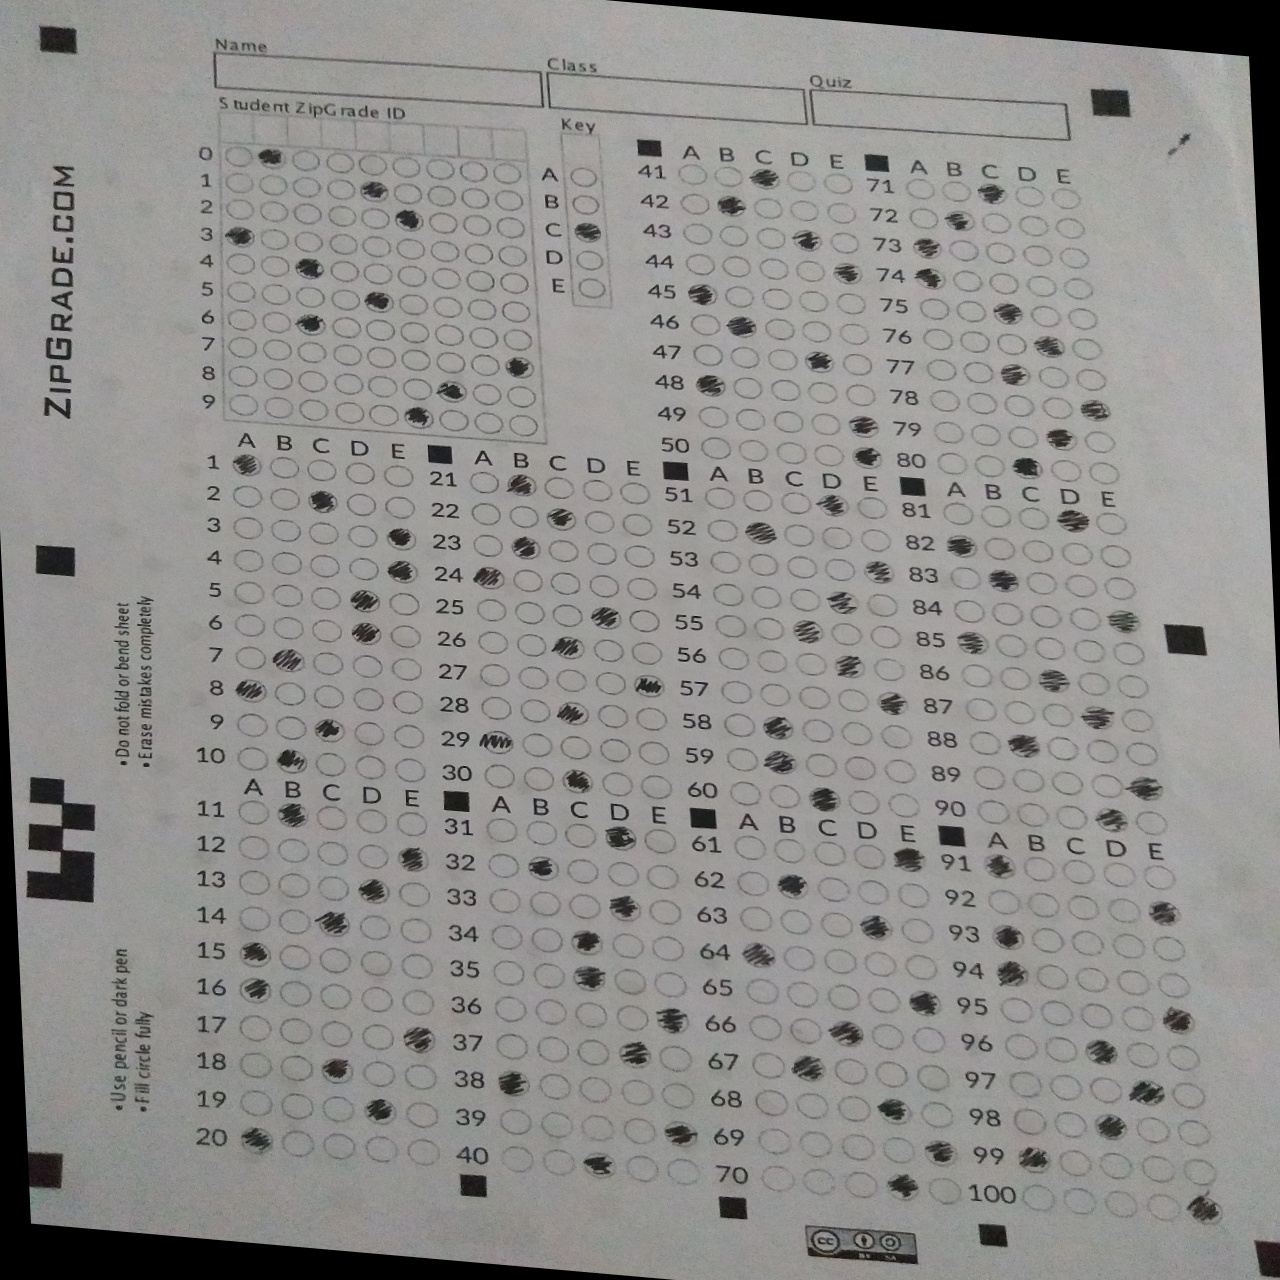not-c: (952, 659, 995, 692), (232, 1085, 275, 1118), (232, 903, 275, 935), (791, 1126, 835, 1159), (967, 796, 1012, 828), (604, 860, 648, 892), (647, 899, 692, 931), (837, 1132, 881, 1164), (823, 983, 867, 1015), (821, 947, 865, 979), (1050, 801, 1092, 833), (944, 595, 987, 627), (966, 762, 1009, 794), (273, 906, 316, 938), (270, 835, 313, 866), (234, 1048, 278, 1080), (233, 1009, 277, 1041), (231, 866, 274, 898), (231, 831, 274, 863), (665, 1156, 708, 1187), (618, 1116, 661, 1148), (611, 1005, 654, 1036), (651, 971, 694, 1002), (647, 863, 690, 894), (640, 825, 683, 857), (750, 1123, 794, 1155), (745, 1050, 789, 1082), (742, 1012, 785, 1043), (731, 904, 775, 935), (727, 870, 770, 901), (871, 1057, 914, 1089), (879, 1133, 922, 1165), (810, 838, 853, 870), (816, 908, 859, 940), (770, 837, 813, 869), (779, 942, 823, 974), (777, 980, 821, 1012), (958, 728, 1002, 758), (940, 563, 982, 594), (955, 692, 998, 723), (1083, 769, 1125, 801), (270, 870, 312, 901), (278, 1014, 320, 1046), (352, 911, 394, 942), (315, 1094, 358, 1125), (311, 801, 353, 832), (571, 999, 613, 1030), (522, 890, 564, 921), (481, 813, 523, 845), (484, 849, 526, 880), (655, 1042, 697, 1074), (658, 1080, 700, 1111), (610, 932, 652, 964), (744, 1085, 787, 1117), (731, 833, 774, 865), (867, 1020, 910, 1051), (812, 873, 855, 905), (619, 1153, 662, 1184), (651, 934, 694, 965), (736, 975, 779, 1006), (831, 1092, 874, 1123), (830, 1056, 873, 1087), (777, 906, 821, 937), (784, 1015, 828, 1046), (788, 1090, 831, 1121), (1121, 1039, 1160, 1071), (1073, 964, 1112, 996), (1119, 1002, 1159, 1035), (1103, 897, 1143, 930), (1164, 1042, 1204, 1075), (564, 857, 605, 888), (275, 1051, 316, 1083), (275, 942, 316, 974), (358, 1058, 399, 1090), (361, 1133, 402, 1165), (316, 945, 358, 976), (311, 837, 352, 869), (397, 949, 438, 981), (576, 1075, 617, 1107), (1132, 1111, 1173, 1143), (1108, 930, 1149, 961), (1080, 735, 1122, 765), (233, 797, 275, 828), (274, 978, 316, 1008), (316, 1131, 359, 1162), (315, 1019, 358, 1049), (309, 874, 352, 905), (489, 994, 531, 1024), (497, 1146, 539, 1177), (399, 1062, 441, 1092), (400, 988, 442, 1019), (527, 995, 570, 1026), (394, 810, 436, 840), (565, 893, 607, 924), (537, 1146, 579, 1177), (536, 1109, 578, 1139), (533, 1035, 576, 1065), (484, 921, 526, 952), (484, 888, 526, 919), (617, 1077, 659, 1108), (610, 968, 652, 999), (1068, 930, 1108, 961), (1085, 1074, 1125, 1105), (1098, 860, 1138, 892), (1139, 864, 1179, 896), (1150, 934, 1190, 966), (1153, 971, 1193, 1002), (1172, 1080, 1212, 1111), (719, 742, 760, 772), (478, 761, 519, 791), (277, 1130, 318, 1160), (353, 842, 394, 872), (358, 985, 399, 1015), (486, 958, 527, 988), (493, 1107, 535, 1137), (393, 879, 434, 910), (578, 1114, 619, 1144), (526, 960, 567, 990), (526, 924, 567, 954), (563, 821, 604, 851), (1095, 1152, 1136, 1183), (1114, 967, 1155, 998), (933, 499, 975, 529), (358, 948, 400, 978), (490, 1032, 532, 1061), (400, 1099, 442, 1129), (568, 1037, 611, 1067), (535, 1073, 577, 1102), (898, 915, 937, 947), (715, 712, 755, 742), (819, 524, 859, 554), (462, 467, 502, 497), (625, 544, 665, 574), (549, 568, 588, 599), (1135, 1153, 1175, 1184), (1082, 1002, 1122, 1033), (1173, 1117, 1213, 1148), (1179, 1155, 1219, 1185), (1010, 799, 1051, 829), (1024, 568, 1065, 598), (1074, 667, 1115, 696), (1048, 769, 1089, 798), (999, 696, 1040, 726), (994, 663, 1035, 693), (979, 535, 1020, 564), (802, 750, 843, 779), (738, 488, 779, 517), (764, 779, 805, 809), (713, 644, 754, 673), (819, 556, 860, 585), (877, 721, 918, 750), (845, 788, 886, 817), (348, 652, 389, 681), (350, 753, 392, 782), (384, 462, 425, 491), (309, 583, 350, 612), (306, 553, 347, 583), (302, 455, 343, 484), (271, 678, 312, 707), (230, 743, 271, 772), (552, 663, 593, 693), (579, 477, 620, 506), (542, 475, 583, 504), (629, 640, 670, 669), (621, 511, 662, 540), (595, 734, 636, 763), (277, 1092, 318, 1122), (350, 805, 392, 835), (353, 1022, 394, 1051), (316, 982, 358, 1012), (404, 1138, 445, 1167), (522, 818, 563, 847), (1040, 998, 1077, 1029), (799, 1167, 838, 1198), (1017, 1183, 1056, 1213), (1060, 858, 1098, 888), (1046, 1073, 1084, 1103), (851, 495, 891, 524), (784, 552, 824, 581), (709, 578, 749, 607), (697, 482, 737, 511), (838, 719, 878, 748), (842, 754, 881, 783), (352, 719, 392, 748), (342, 489, 382, 518), (309, 617, 349, 646), (307, 519, 347, 549), (271, 715, 311, 744), (223, 578, 263, 607), (224, 482, 264, 511), (350, 686, 390, 715), (557, 733, 597, 762), (472, 661, 512, 690), (641, 775, 681, 804), (855, 529, 896, 557), (1033, 634, 1074, 662), (985, 599, 1026, 627), (1024, 601, 1065, 629), (1017, 538, 1058, 566), (828, 621, 869, 649), (781, 522, 822, 550), (744, 551, 785, 579), (745, 585, 787, 613), (715, 678, 756, 706), (701, 515, 742, 543), (871, 656, 912, 685), (881, 756, 922, 784), (392, 756, 433, 784), (390, 724, 431, 753), (343, 520, 384, 549), (343, 461, 384, 489), (267, 550, 308, 578), (268, 517, 309, 545), (268, 615, 309, 644), (231, 712, 272, 740), (230, 516, 271, 544), (515, 730, 556, 758), (509, 629, 550, 658), (508, 598, 549, 626), (467, 597, 508, 625), (461, 530, 502, 558), (467, 501, 508, 529), (504, 503, 545, 531), (627, 607, 668, 635), (588, 638, 629, 666), (585, 542, 626, 570), (857, 878, 894, 908), (892, 881, 930, 912), (840, 1167, 878, 1198), (1102, 1189, 1139, 1219), (1061, 1186, 1098, 1217), (926, 1175, 964, 1205), (1021, 855, 1058, 885), (1012, 1107, 1049, 1137), (1051, 1109, 1089, 1139), (1058, 1148, 1096, 1178), (1043, 1035, 1081, 1065), (1033, 962, 1071, 992), (866, 622, 906, 651), (865, 592, 905, 620), (1040, 702, 1080, 730), (1043, 733, 1083, 761), (1008, 767, 1048, 795), (993, 629, 1033, 658), (797, 683, 837, 712), (789, 651, 829, 679), (785, 585, 825, 613), (778, 489, 818, 517), (751, 647, 791, 675), (754, 680, 794, 708), (707, 610, 747, 638), (835, 686, 874, 714), (887, 791, 927, 819), (392, 688, 431, 716), (392, 656, 431, 685), (347, 554, 387, 583), (389, 621, 429, 649), (383, 590, 423, 618), (311, 750, 350, 778), (309, 648, 349, 676), (264, 486, 304, 515), (263, 456, 302, 484), (268, 584, 308, 612), (225, 644, 265, 672), (229, 612, 268, 640), (227, 547, 267, 576), (519, 765, 559, 794), (515, 695, 554, 723), (516, 663, 556, 692), (509, 567, 549, 595), (614, 481, 654, 509), (476, 692, 516, 720), (469, 629, 509, 658), (593, 670, 633, 699), (625, 574, 665, 602), (598, 771, 638, 799), (594, 701, 634, 729), (547, 601, 587, 629), (543, 538, 583, 566), (757, 1163, 794, 1193), (920, 1099, 956, 1130), (1003, 1032, 1040, 1062), (1070, 636, 1111, 663), (799, 719, 840, 745), (702, 549, 743, 576), (312, 685, 353, 712), (633, 738, 674, 765), (862, 949, 899, 979), (866, 986, 904, 1015), (1145, 1193, 1183, 1223), (1007, 1068, 1044, 1097), (986, 886, 1023, 915), (1028, 925, 1065, 954), (383, 495, 422, 523), (749, 617, 789, 644), (722, 779, 762, 806), (586, 576, 626, 602), (638, 704, 678, 731), (581, 508, 621, 535), (852, 844, 888, 873), (903, 953, 939, 982), (915, 1063, 952, 1092), (1064, 893, 1101, 922), (1024, 891, 1061, 920), (908, 1024, 946, 1053), (399, 914, 433, 945), (998, 998, 1034, 1026), (951, 268, 986, 297), (1028, 302, 1064, 329), (288, 147, 324, 173), (490, 161, 525, 188), (288, 173, 324, 200), (292, 229, 327, 256), (259, 338, 294, 365), (258, 309, 293, 336), (389, 181, 424, 207), (435, 407, 470, 434), (431, 324, 467, 350), (770, 409, 805, 436), (804, 379, 839, 406), (768, 377, 803, 404), (754, 224, 789, 251), (751, 196, 787, 223), (728, 345, 763, 372), (734, 406, 769, 433), (687, 311, 722, 338), (565, 164, 600, 191), (572, 275, 607, 302), (917, 297, 952, 324), (787, 168, 822, 195), (825, 200, 860, 227), (1084, 428, 1119, 455), (1062, 275, 1097, 302), (1057, 243, 1092, 270), (1054, 215, 1089, 241), (219, 170, 256, 196), (223, 250, 259, 275), (365, 401, 401, 427), (958, 359, 994, 384), (1063, 574, 1099, 600), (324, 202, 358, 229), (290, 200, 324, 227), (326, 286, 360, 313), (365, 372, 399, 399), (332, 399, 366, 425), (497, 270, 531, 297), (493, 189, 527, 216), (508, 411, 542, 438), (978, 502, 1012, 529), (971, 452, 1005, 479), (1101, 576, 1135, 602), (389, 154, 424, 179), (456, 158, 491, 184), (355, 151, 390, 177), (322, 150, 358, 176), (470, 381, 505, 407), (226, 392, 261, 417), (260, 281, 295, 307), (226, 365, 261, 390), (223, 308, 258, 334), (223, 278, 258, 304), (256, 173, 291, 199), (254, 198, 290, 224), (219, 196, 254, 222), (325, 231, 360, 257), (292, 284, 327, 309), (298, 396, 333, 422), (295, 339, 331, 365), (261, 396, 297, 422), (261, 366, 297, 392), (258, 281, 293, 307), (396, 265, 431, 291), (428, 239, 463, 265), (425, 184, 461, 210), (393, 237, 428, 263), (361, 261, 396, 287), (360, 234, 395, 260), (468, 353, 503, 379), (467, 325, 502, 350), (501, 326, 536, 352), (496, 298, 531, 324), (434, 350, 469, 376), (429, 294, 464, 320), (399, 377, 434, 403), (399, 347, 434, 373), (397, 319, 433, 345), (396, 292, 431, 318), (366, 342, 401, 368), (362, 316, 397, 342), (329, 370, 365, 396), (331, 340, 366, 366), (329, 314, 365, 340), (465, 268, 501, 294), (497, 243, 532, 268), (461, 241, 496, 267), (456, 186, 491, 212), (429, 267, 464, 293), (470, 409, 505, 435), (828, 231, 863, 257), (796, 290, 831, 315), (808, 411, 843, 437), (796, 318, 831, 343), (838, 322, 873, 348), (843, 382, 878, 408), (812, 443, 847, 469), (760, 286, 795, 312), (756, 257, 791, 282), (712, 164, 747, 190), (713, 223, 748, 248), (719, 254, 754, 280), (723, 285, 758, 311), (730, 374, 765, 400), (737, 437, 772, 463), (697, 436, 733, 462), (695, 403, 730, 429), (690, 342, 726, 368), (682, 251, 717, 277), (678, 220, 713, 246), (676, 162, 712, 188), (567, 192, 602, 218), (570, 247, 605, 273), (968, 423, 1003, 449), (964, 390, 999, 416), (949, 300, 985, 326), (934, 450, 969, 476), (930, 420, 965, 445), (926, 388, 961, 414), (924, 358, 959, 383), (904, 205, 939, 231), (905, 176, 940, 202), (1017, 215, 1053, 240), (983, 241, 1019, 267), (987, 271, 1022, 297), (992, 331, 1027, 356), (1003, 423, 1039, 449), (1001, 392, 1036, 417), (1040, 394, 1075, 420), (1047, 457, 1082, 483), (1085, 459, 1121, 485), (1074, 367, 1109, 393), (1070, 338, 1105, 363), (1065, 305, 1101, 331), (1047, 185, 1082, 211), (1015, 506, 1050, 532), (1095, 512, 1130, 538), (981, 209, 1016, 234), (1115, 639, 1150, 665), (1058, 540, 1094, 566), (1136, 811, 1171, 837), (1124, 742, 1159, 768), (1122, 709, 1157, 735), (1069, 607, 1104, 633), (1096, 544, 1131, 570), (359, 205, 392, 232), (423, 155, 457, 181), (222, 143, 256, 169), (493, 215, 527, 240), (256, 172, 290, 198), (227, 335, 261, 361), (258, 252, 292, 278), (322, 175, 356, 200), (297, 369, 331, 395), (425, 211, 459, 237), (508, 384, 542, 410), (835, 291, 869, 316), (840, 352, 874, 377), (772, 438, 806, 464), (765, 347, 799, 373), (762, 316, 796, 342), (956, 329, 990, 355), (948, 238, 982, 264), (922, 325, 956, 350), (823, 171, 857, 197), (787, 198, 821, 224), (1024, 273, 1058, 299), (1039, 365, 1073, 390), (1014, 183, 1048, 209), (1114, 672, 1148, 697), (794, 258, 828, 284), (258, 227, 293, 252), (328, 259, 363, 284), (467, 297, 502, 321), (1021, 244, 1056, 268), (938, 179, 973, 204), (678, 191, 712, 216)
taken-c: (313, 908, 356, 941), (234, 937, 278, 969), (350, 874, 394, 907), (770, 870, 813, 903), (1013, 1142, 1056, 1175), (785, 1051, 829, 1084), (577, 1149, 620, 1182), (563, 926, 607, 958), (1184, 1194, 1228, 1226), (1075, 702, 1119, 734), (651, 1005, 693, 1037), (990, 958, 1033, 990), (490, 1067, 533, 1098), (565, 961, 608, 993), (234, 1123, 278, 1155), (314, 1054, 358, 1085), (988, 921, 1032, 953), (1155, 1003, 1198, 1035), (1081, 1036, 1124, 1068), (1089, 1110, 1132, 1142), (852, 911, 896, 942), (872, 1095, 915, 1126), (919, 1137, 962, 1169), (585, 602, 628, 634), (869, 687, 912, 719), (1143, 896, 1186, 927), (737, 939, 779, 971), (358, 1095, 400, 1126), (392, 843, 434, 874), (903, 987, 945, 1019), (826, 1017, 869, 1049), (656, 1117, 699, 1149), (755, 713, 797, 744), (267, 644, 309, 675), (1033, 663, 1075, 695), (828, 651, 870, 682), (1092, 804, 1135, 836), (556, 764, 599, 795), (595, 821, 639, 851), (605, 896, 648, 926), (612, 1037, 655, 1068), (396, 1023, 440, 1054), (232, 974, 275, 1005), (979, 851, 1022, 881), (886, 845, 930, 876), (520, 851, 564, 881), (270, 798, 313, 829), (1126, 1077, 1170, 1108), (549, 632, 590, 663), (230, 675, 272, 706), (309, 715, 352, 745), (758, 745, 801, 776), (270, 745, 312, 776), (550, 695, 592, 726), (474, 726, 516, 756), (881, 1171, 924, 1201), (377, 523, 420, 553), (382, 556, 424, 586), (1102, 606, 1144, 636), (951, 628, 993, 659), (1003, 731, 1046, 762), (805, 785, 847, 815), (1123, 772, 1165, 802), (628, 670, 668, 701), (741, 518, 781, 549), (987, 297, 1027, 327), (1005, 451, 1046, 481), (940, 531, 981, 560), (710, 191, 751, 220), (470, 561, 508, 593), (224, 450, 264, 479), (907, 232, 947, 261), (908, 264, 948, 293), (1074, 395, 1114, 424), (219, 223, 259, 252), (825, 258, 865, 287), (503, 533, 544, 561), (1053, 506, 1094, 535), (983, 567, 1024, 595), (859, 558, 900, 586), (821, 588, 862, 617), (995, 361, 1036, 389), (937, 207, 978, 236), (346, 618, 384, 647), (813, 491, 853, 519), (542, 504, 581, 532), (302, 486, 342, 515), (502, 472, 542, 501), (1029, 333, 1069, 361), (1040, 425, 1080, 454), (787, 225, 826, 253), (971, 179, 1010, 207), (787, 617, 828, 644), (346, 586, 383, 615), (844, 414, 880, 443), (692, 372, 728, 401), (291, 309, 328, 338), (682, 280, 720, 308), (721, 313, 760, 340), (353, 177, 393, 203), (847, 442, 884, 470), (360, 288, 396, 316), (745, 165, 782, 193), (568, 222, 607, 247), (433, 377, 468, 406), (803, 348, 839, 375), (291, 256, 326, 282), (498, 354, 535, 380), (389, 207, 425, 233), (400, 404, 435, 430), (254, 145, 287, 168)
